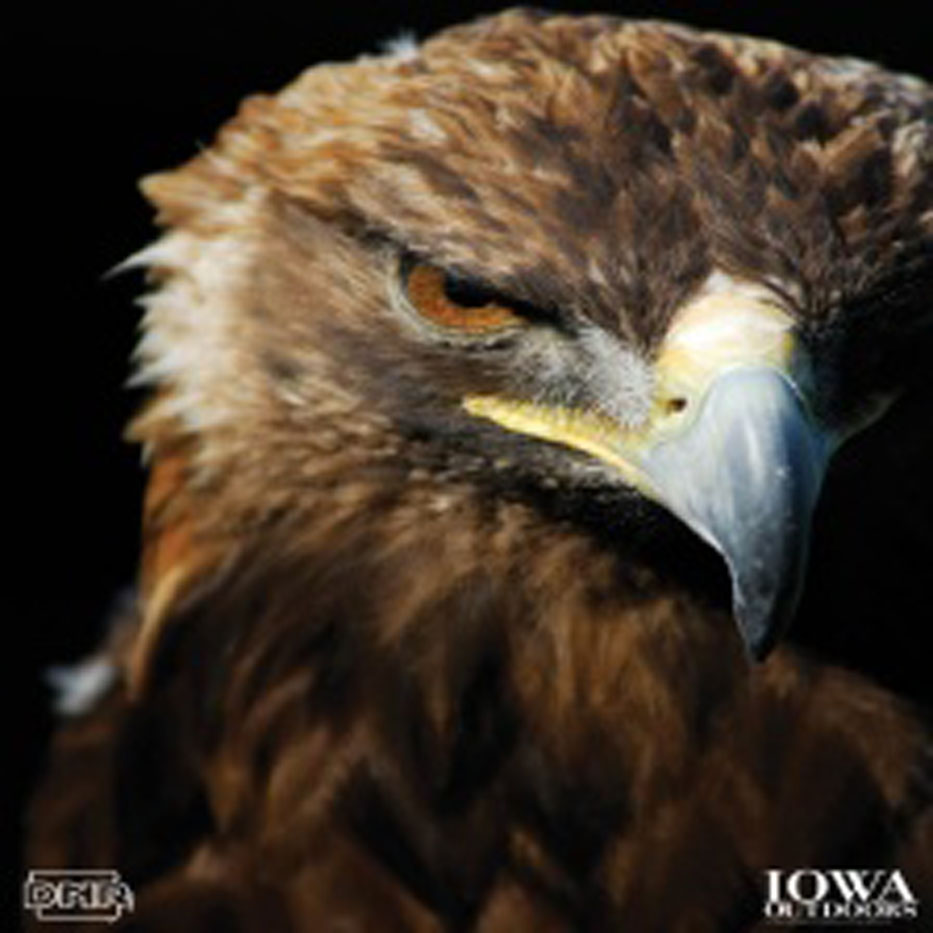Pengoyak Daging: (647, 263, 847, 670)
